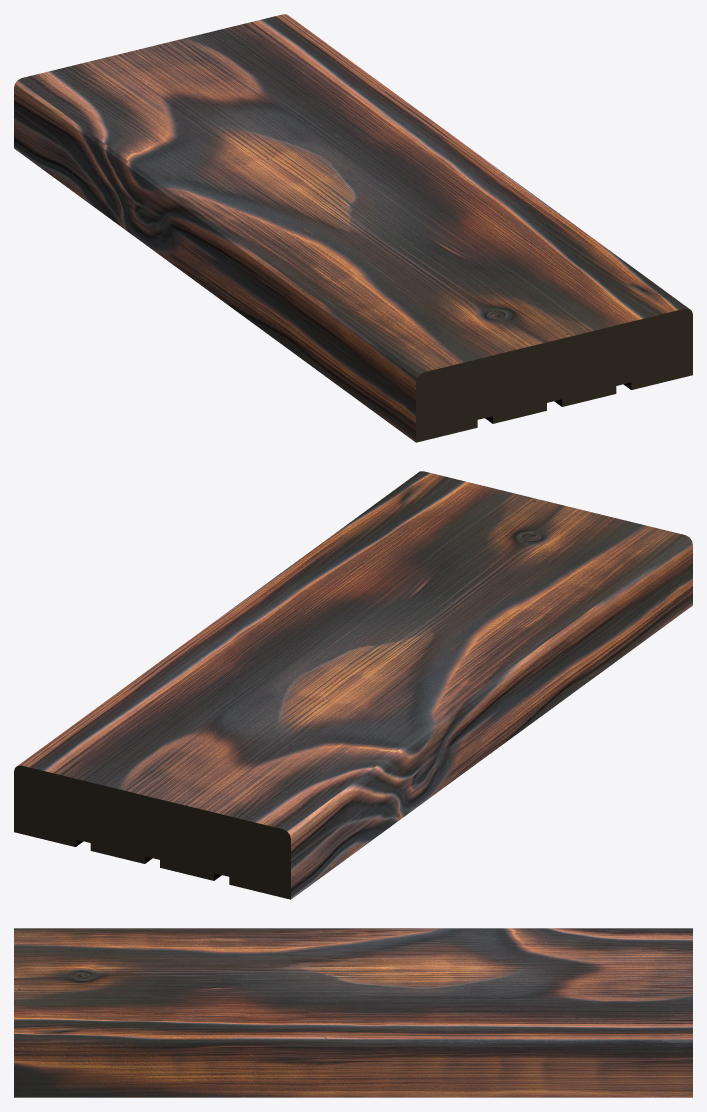
The model's file is larch-terrace-natural.glb.
3 views of the same model, one above another, from view 1: azimuth 30°, elevation 25°; view 2: azimuth 150°, elevation 25°; view 3: azimuth 270°, elevation 25° (orthographic). The views are drawn at different scales.
Visible parts, largest first — view 1: Staciakampis; view 2: Staciakampis; view 3: Staciakampis.
Boxes of the visible parts, x1,y1,x2,y2 form: Staciakampis: (14,14,692,442); Staciakampis: (14,471,692,899); Staciakampis: (14,928,692,1097).
Bounding box in the file's own units: 0.0733 × 0.0173 × 0.1843.
Materials: 3 (1 with a texture image).
